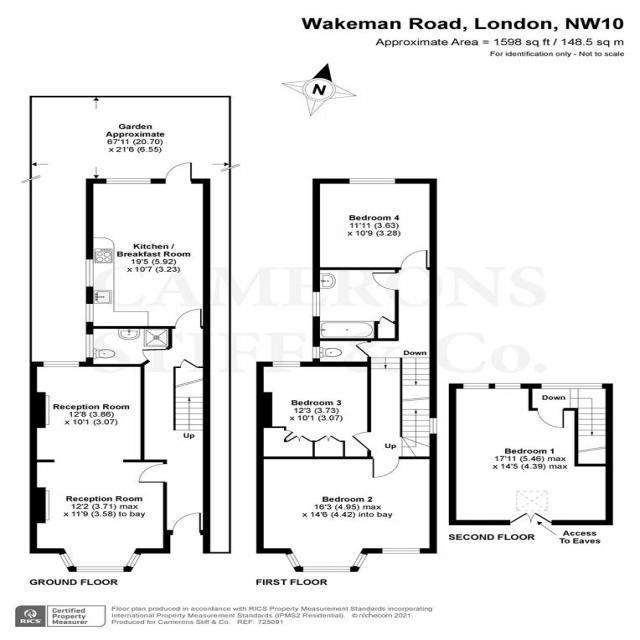DOOR: (171, 512, 202, 535), (371, 456, 401, 478), (164, 162, 193, 184), (137, 463, 167, 483), (174, 308, 202, 329), (536, 408, 565, 428), (371, 271, 399, 291), (400, 250, 428, 270), (350, 431, 371, 451), (141, 348, 169, 362), (354, 342, 371, 357)
ROOM: (29, 361, 171, 573), (448, 383, 614, 526), (256, 456, 438, 572), (85, 162, 211, 329), (312, 178, 438, 270), (256, 361, 372, 460)
WINDOW: (302, 565, 352, 573), (539, 383, 603, 389), (75, 566, 125, 573), (284, 552, 302, 569), (351, 552, 369, 569), (125, 552, 142, 569), (58, 552, 75, 569), (349, 178, 396, 184), (106, 178, 151, 184), (85, 259, 94, 287), (381, 548, 421, 554), (312, 291, 321, 317), (43, 361, 80, 367), (85, 334, 94, 358), (85, 303, 95, 323), (462, 383, 490, 390), (271, 361, 301, 367), (494, 383, 522, 389), (429, 417, 438, 434), (312, 346, 321, 359)
